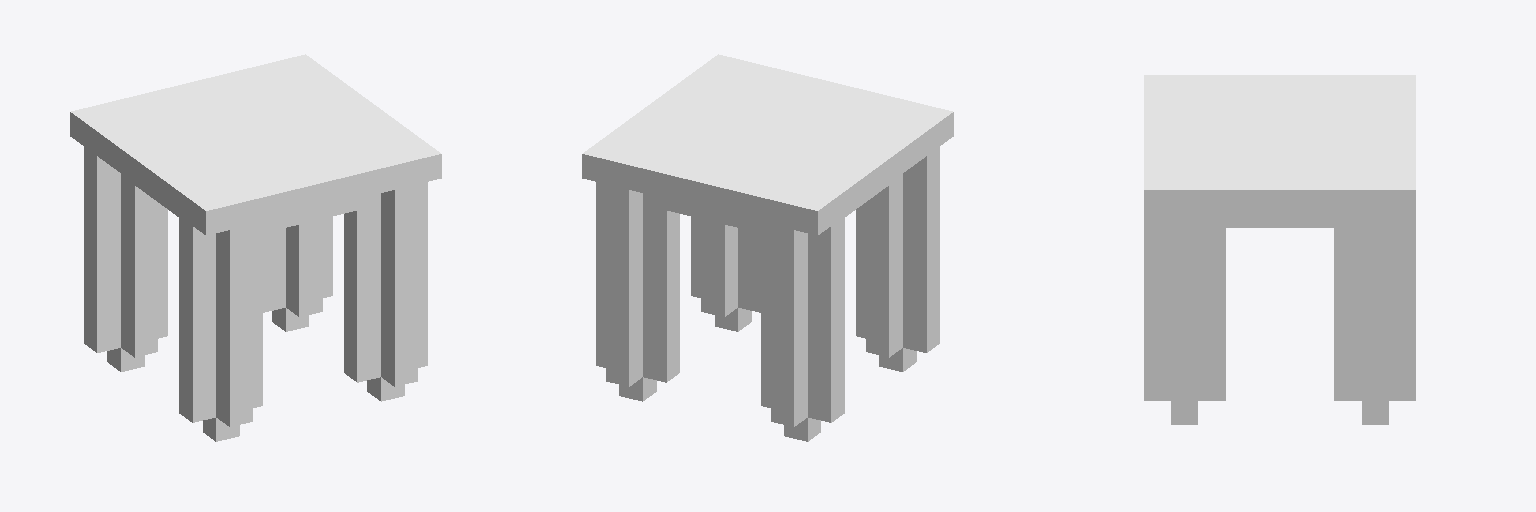
File: Tabouret.obj
The picture shows the model from 3 angles: view 1: azimuth 30°, elevation 25°; view 2: azimuth 150°, elevation 25°; view 3: azimuth 270°, elevation 25°; orthographic projection.
Parts seen in each view (by area): view 1: Tabouret; view 2: Tabouret; view 3: Tabouret.
Part boxes in pixels (x1,y1,x2,y2): Tabouret: (70, 54, 441, 441); Tabouret: (582, 54, 953, 441); Tabouret: (1144, 75, 1415, 424).
Size of the model in its own units: 10 by 10 by 10.